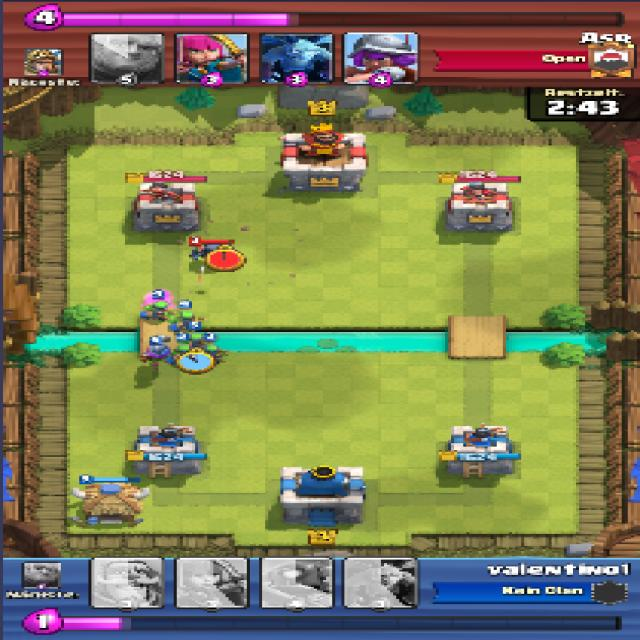Enemy-MiniPEKKA: (188, 243, 242, 263)
Player-GoblinHut: (64, 483, 149, 526)
Player-Musketeer: (140, 333, 170, 361)
Player-SpearGoblin: (142, 302, 174, 319), (175, 312, 202, 332), (200, 345, 224, 364), (171, 346, 196, 364), (183, 333, 212, 347)
